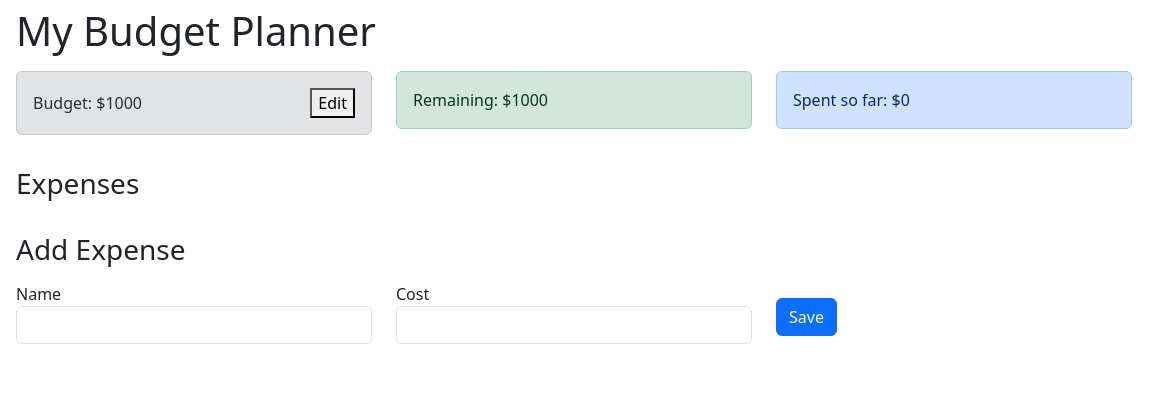
Test case: MyBudgetTracker Component › Create and Delete Expense
Add new expense
Type "Test Expense" into the field labelled "Name" at (194, 325), box [16, 306, 372, 344]
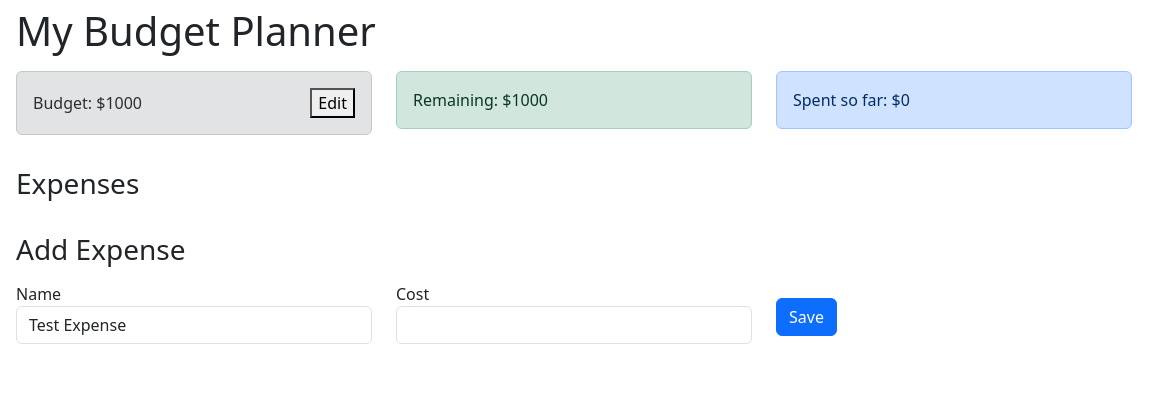
Type "100" into the number field labelled "Cost" at (574, 325), box [396, 306, 752, 344]
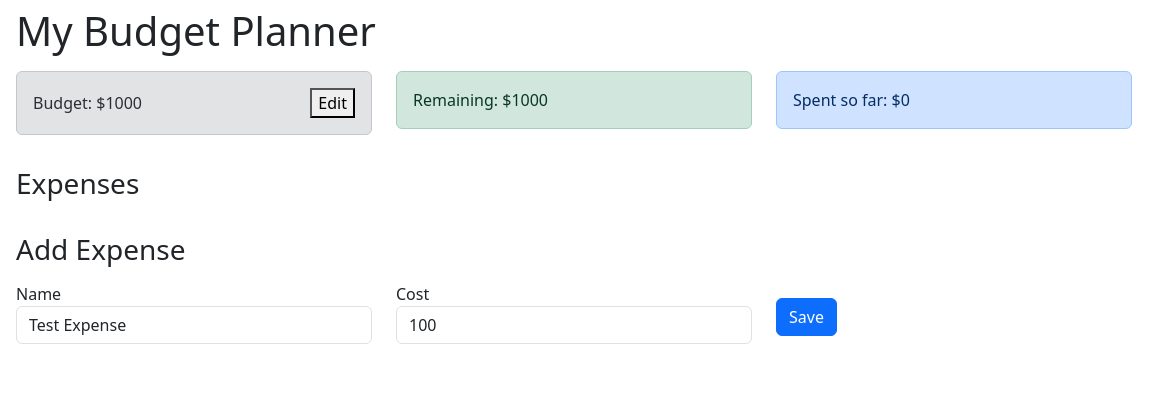
Click the button "Save" at (806, 317), box [776, 298, 837, 336]
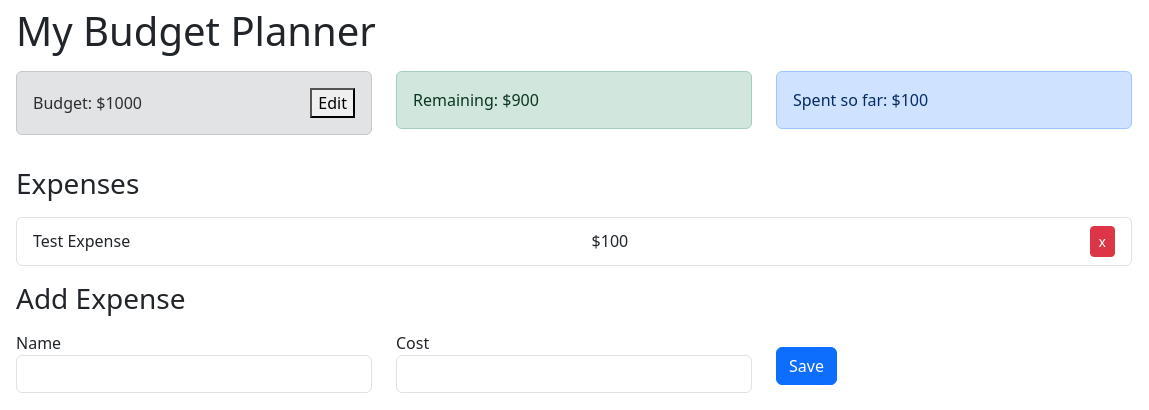
Check: the text "Test Expense" is shown, box [33, 229, 130, 253]
Check: the text "$100" is shown, box [592, 229, 628, 253]
Delete expense
Click the button "x" at (1102, 241), box [1090, 226, 1115, 257]
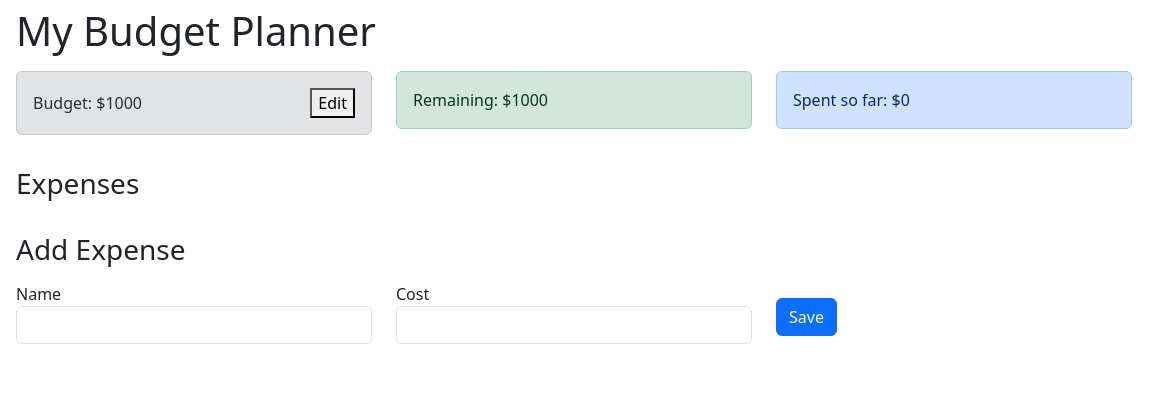
Check: the text "Test Expense" is gone
